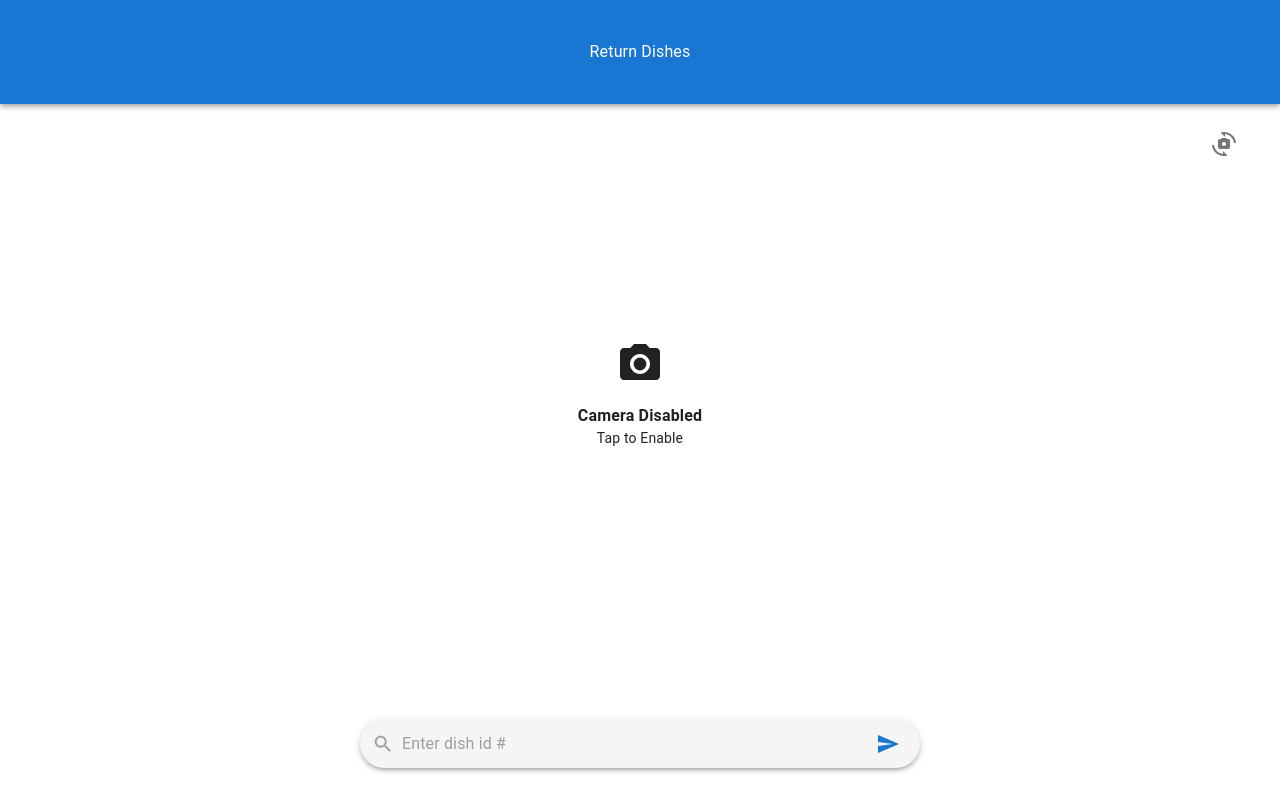
allows reporting a returned dish condition
The width and height of the screenshot is (1280, 800).
In the field with placeholder "Enter dish id #": (635, 744) [402, 728, 868, 760], type "6"
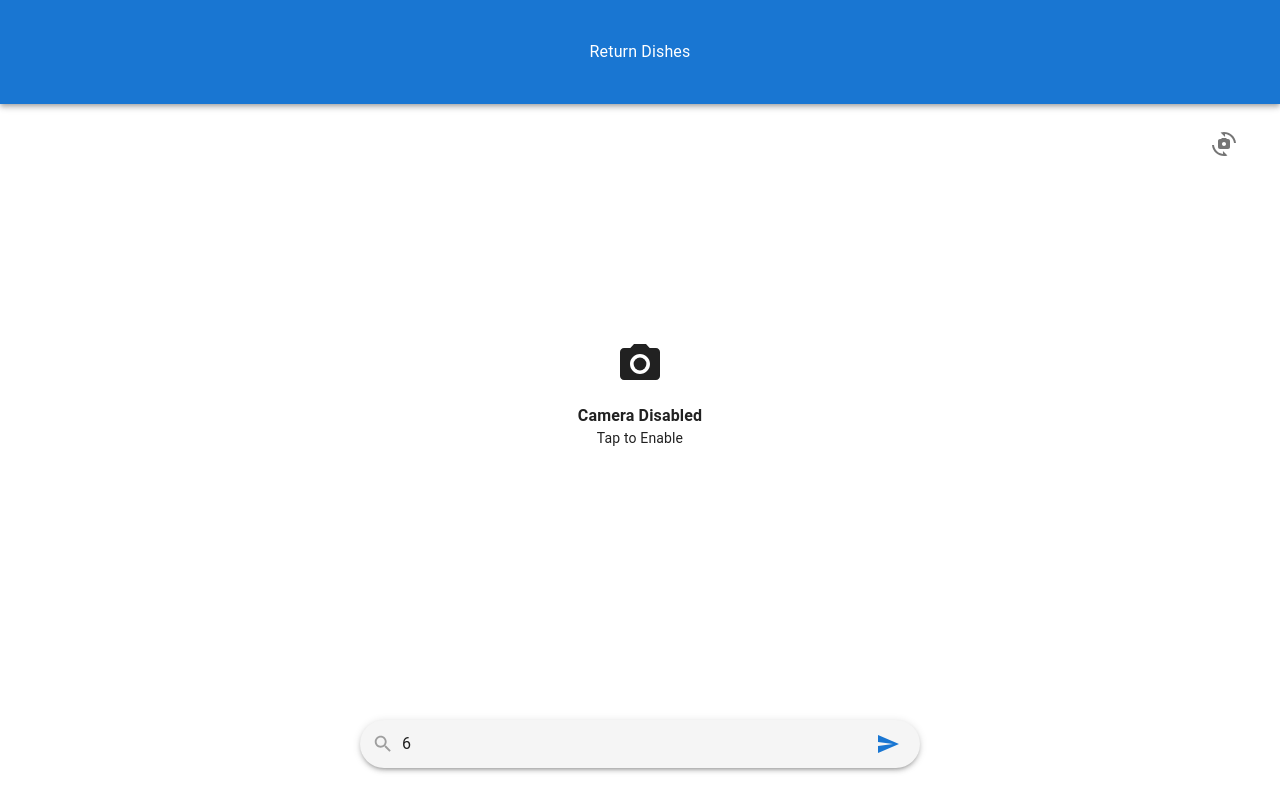
Click the button with test id "return-btn": (888, 744) [868, 724, 908, 764]
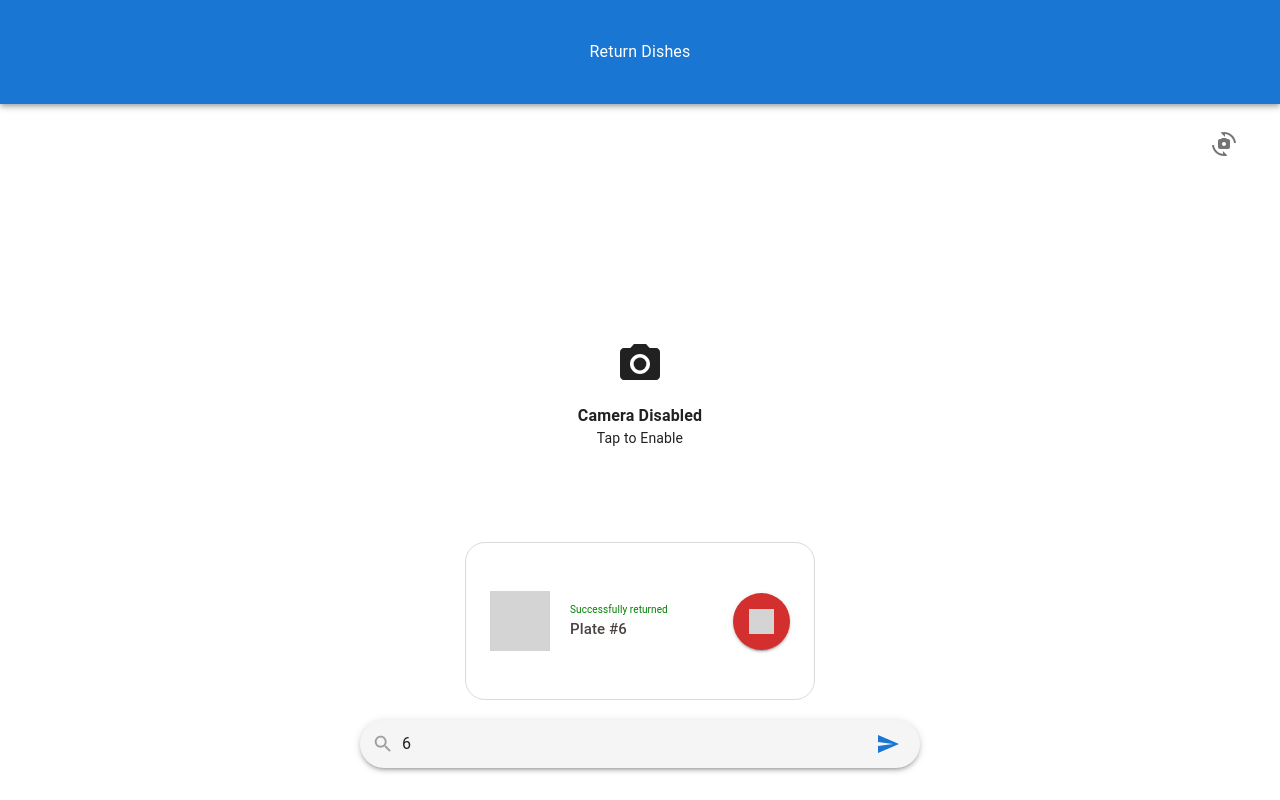
Click the button with test id "open-report-modal-btn": (762, 621) [733, 592, 790, 650]
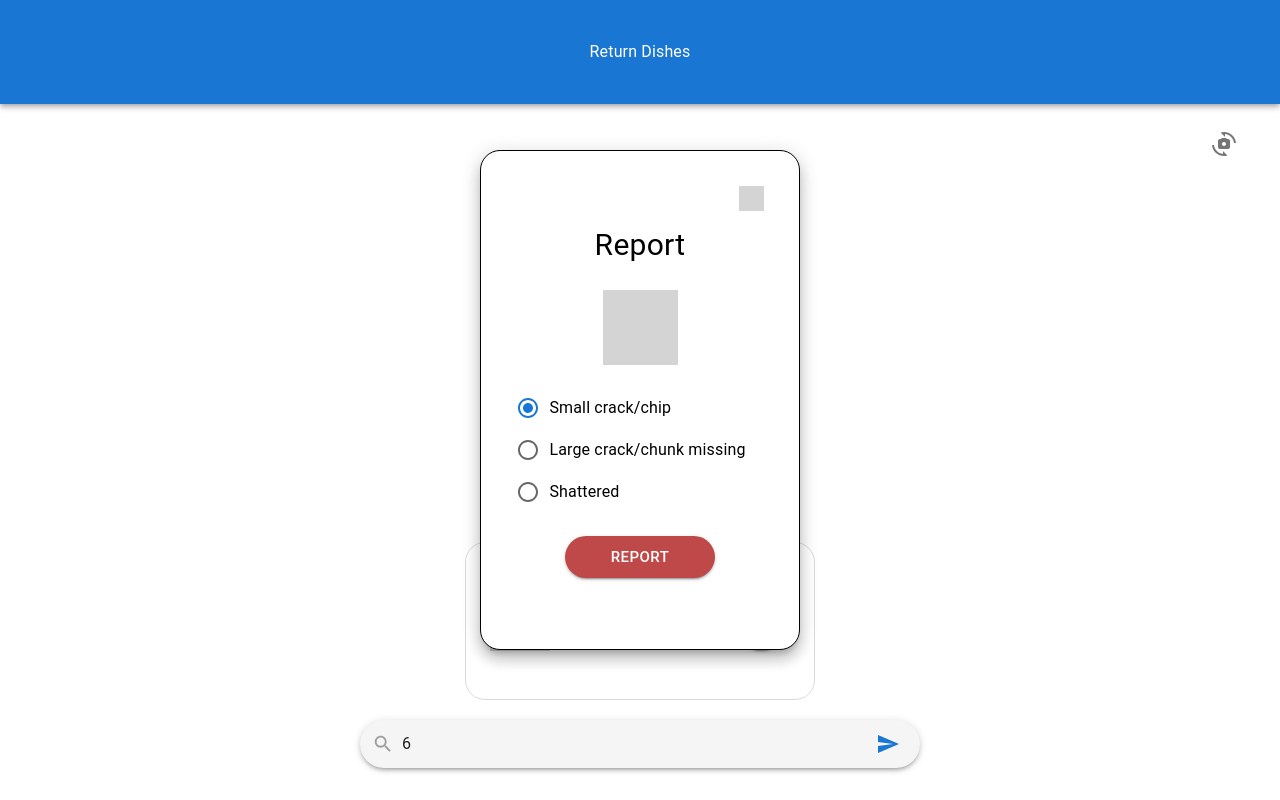
Click the button with test id "end-report-btn": (640, 557) [565, 536, 715, 578]
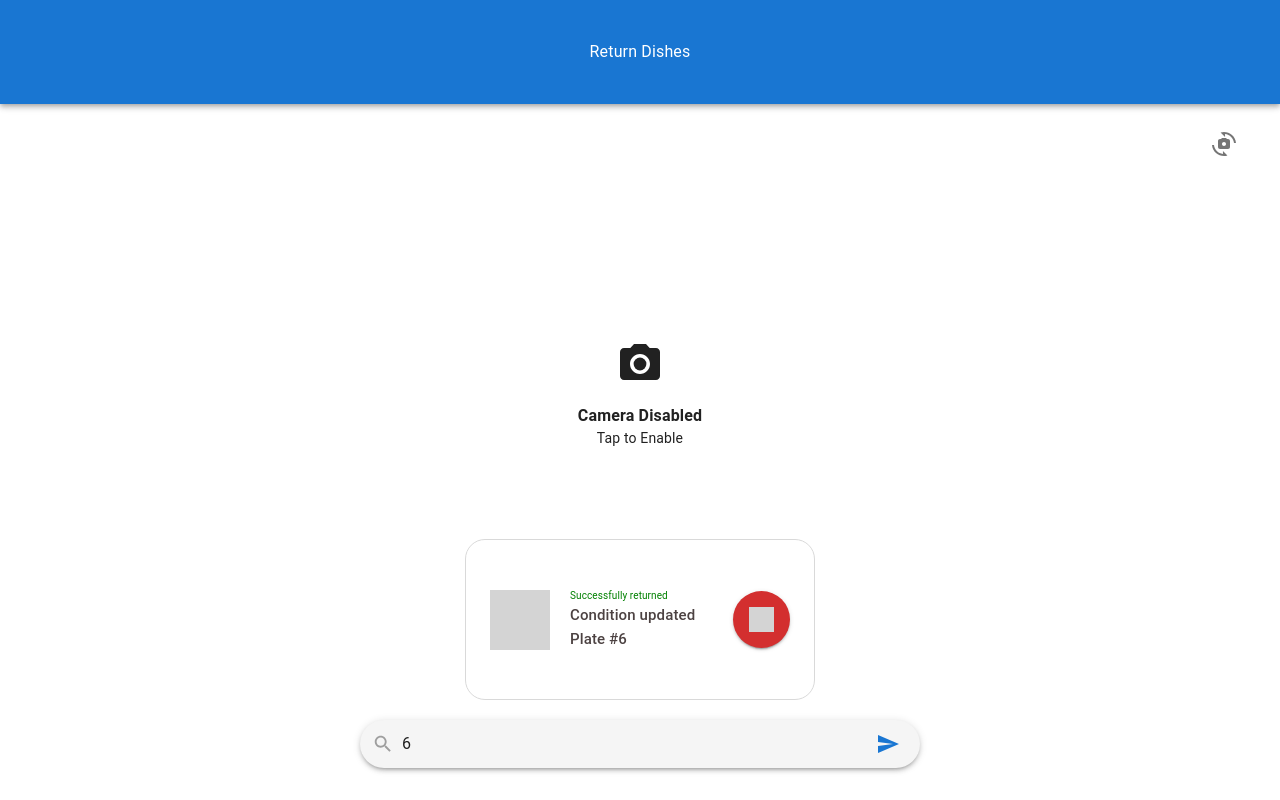
Check: the heading "Condition updated" is shown, box [570, 603, 695, 627]
